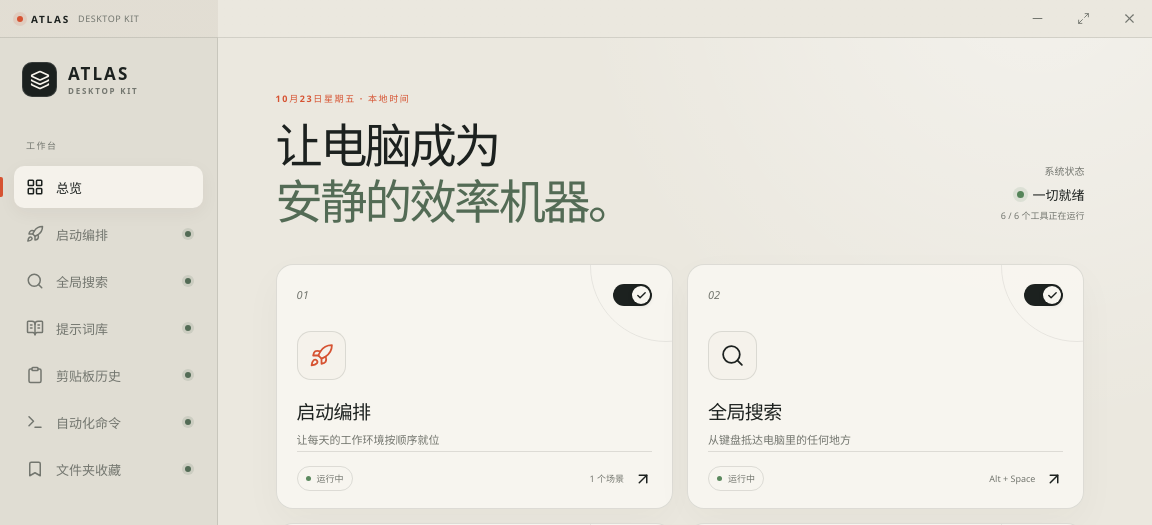
Atlas desktop toolkit › expands prompt categories and filters prompt cards
Click the button "提示词库": (108, 328) 14,307 -> 203,349
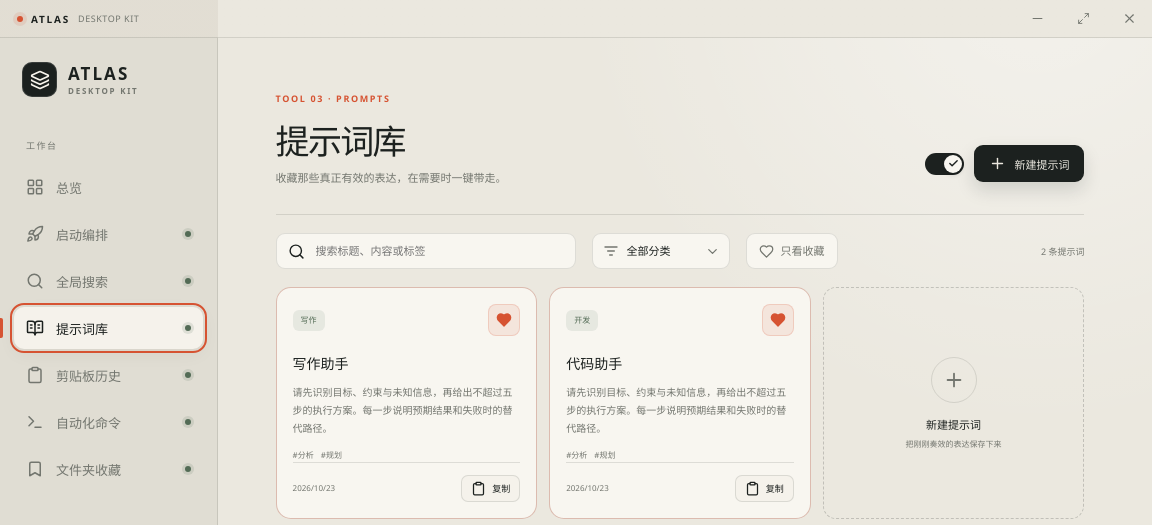
Select "写作" in the dropdown named "提示词分类": (661, 251) 592,233 -> 730,269
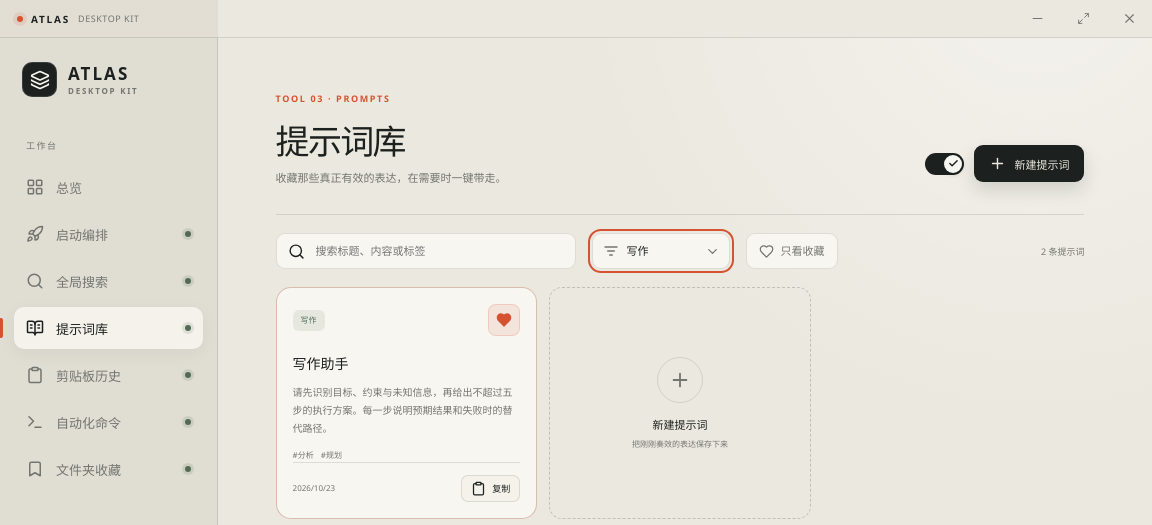
Now the heading "写作助手" is shown, box 293,355 -> 349,374
Now the heading "代码助手" is gone
